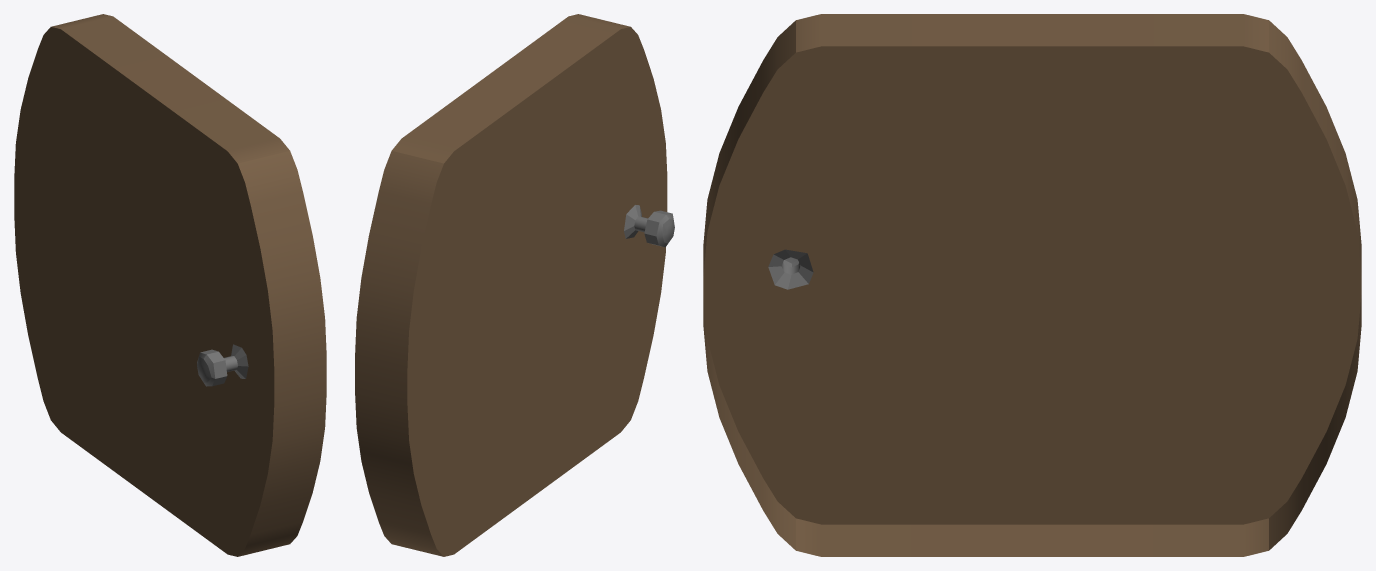
File: door_01.fbx
The picture shows the model from 3 angles, left to right: view 1: azimuth 30°, elevation 25°; view 2: azimuth 150°, elevation 25°; view 3: azimuth 270°, elevation 25°; orthographic projection. The views are drawn at different scales.
Parts seen in each view (by area): view 1: door_01; view 2: door_01; view 3: door_01.
Boxes of the visible parts, x1,y1,x2,y2 form: door_01: [14, 14, 326, 556]; door_01: [355, 14, 674, 556]; door_01: [703, 14, 1361, 556].
Bounding box in the file's own units: 57.12 × 244 × 285.
